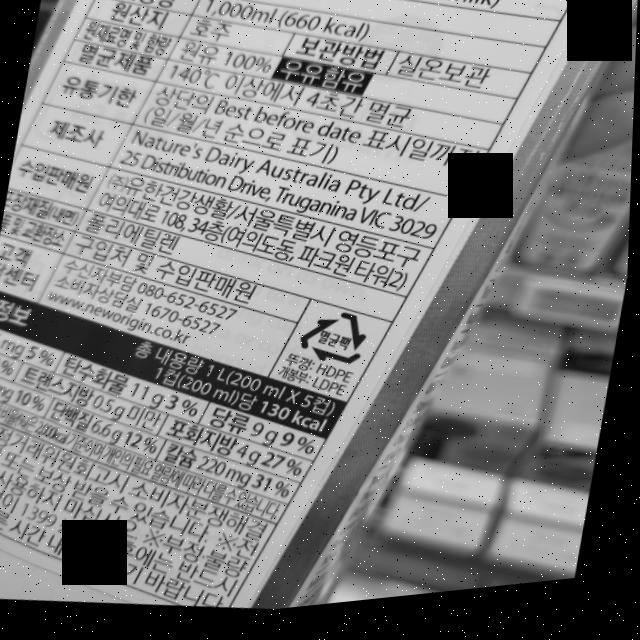SterilizedPack: (296, 312, 373, 378)
